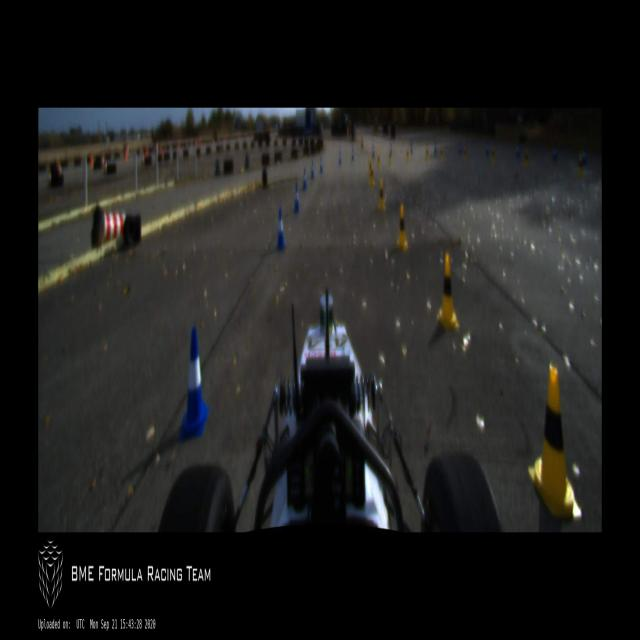blue_cone: (180, 327, 209, 436), (274, 208, 286, 248), (293, 183, 300, 211), (302, 168, 306, 188), (515, 143, 520, 159), (583, 149, 587, 168), (553, 146, 557, 162), (311, 161, 314, 179), (351, 146, 354, 162), (486, 140, 489, 155), (320, 157, 323, 172), (434, 141, 437, 155), (459, 141, 462, 154), (410, 140, 413, 153), (372, 143, 374, 159), (339, 150, 341, 164)
yellow_cone: (527, 365, 582, 517), (437, 252, 459, 328), (396, 203, 408, 252), (377, 178, 385, 212), (578, 155, 583, 177), (369, 165, 374, 183), (524, 149, 528, 168), (491, 148, 496, 163), (440, 146, 444, 162), (462, 148, 466, 162), (377, 152, 380, 168), (368, 158, 371, 174), (406, 148, 409, 162), (361, 134, 364, 148), (389, 149, 391, 165), (426, 146, 428, 160)
